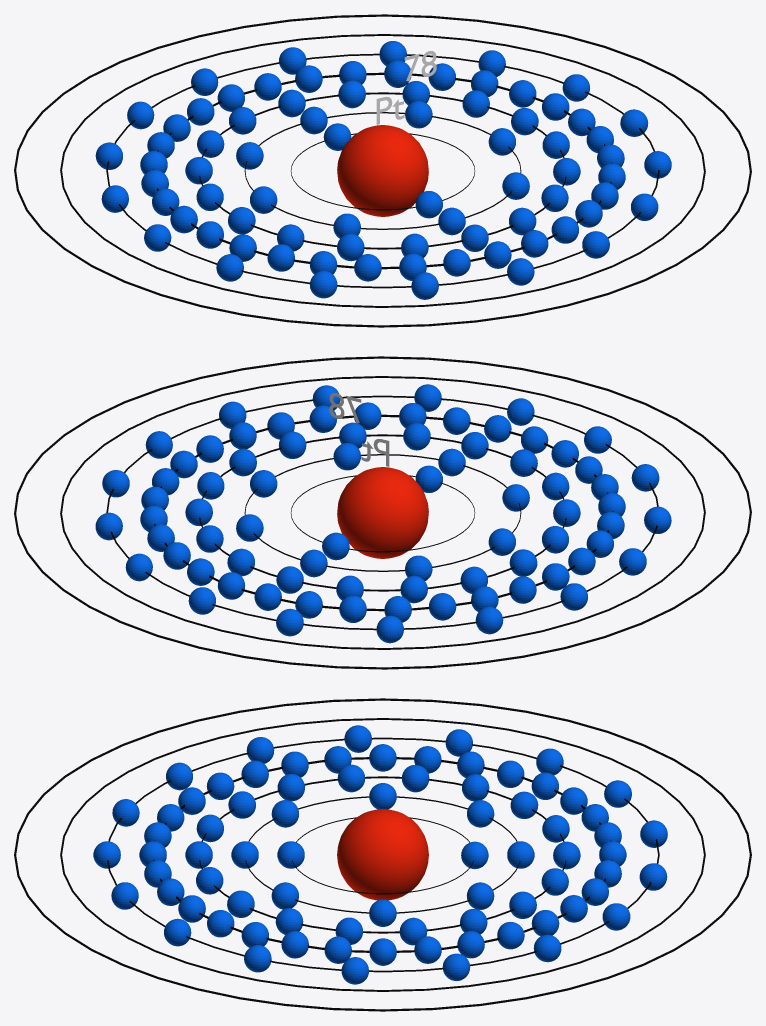
The picture shows the model from 3 angles, top to bottom: view 1: azimuth 30°, elevation 25°; view 2: azimuth 150°, elevation 25°; view 3: azimuth 270°, elevation 25°; orthographic projection.
Visible parts, largest first — view 1: Pt4, Pt3, Pt5, Proton, Pt2, n7, n6, n5, Pt1, n3, n4, n2; view 2: Pt4, Pt3, Pt5, Proton, Pt2, n7, n6, n5, Pt1, n3, n4, n2; view 3: Pt4, Pt3, Pt5, Proton, Pt2, n7, n6, n5, Pt1, n3, n4, n2 (+1 smaller).
Part boxes in pixels (<box>): Pt4: <box>140,60,625,281</box>; Pt3: <box>185,80,580,261</box>; Pt5: <box>95,41,671,299</box>; Proton: <box>337,125,428,216</box>; Pt2: <box>236,101,529,238</box>; n7: <box>14,14,751,327</box>; n6: <box>60,34,705,307</box>; n5: <box>106,53,659,288</box>; Pt1: <box>323,123,442,218</box>; n3: <box>199,92,566,249</box>; n4: <box>152,72,611,269</box>; n2: <box>244,112,521,229</box>; Pt4: <box>140,402,625,622</box>; Pt3: <box>185,422,580,603</box>; Pt5: <box>95,384,671,643</box>; Proton: <box>337,467,428,558</box>; Pt2: <box>236,443,529,580</box>; n7: <box>14,356,751,669</box>; n6: <box>60,376,705,649</box>; n5: <box>106,395,658,630</box>; Pt1: <box>322,465,442,560</box>; n3: <box>199,434,566,591</box>; n4: <box>153,414,613,611</box>; n2: <box>244,454,521,571</box>; Pt4: <box>139,744,626,965</box>; Pt3: <box>185,764,580,945</box>; Pt5: <box>93,725,667,984</box>; Proton: <box>337,809,428,900</box>; Pt2: <box>231,783,534,926</box>; n7: <box>14,698,751,1011</box>; n6: <box>60,718,705,991</box>; n5: <box>107,737,659,972</box>; Pt1: <box>277,841,488,869</box>; n3: <box>199,776,566,933</box>; n4: <box>153,757,612,952</box>; n2: <box>245,796,520,913</box>.
Bounding box in the file's own units: 802 × 180 × 802.
